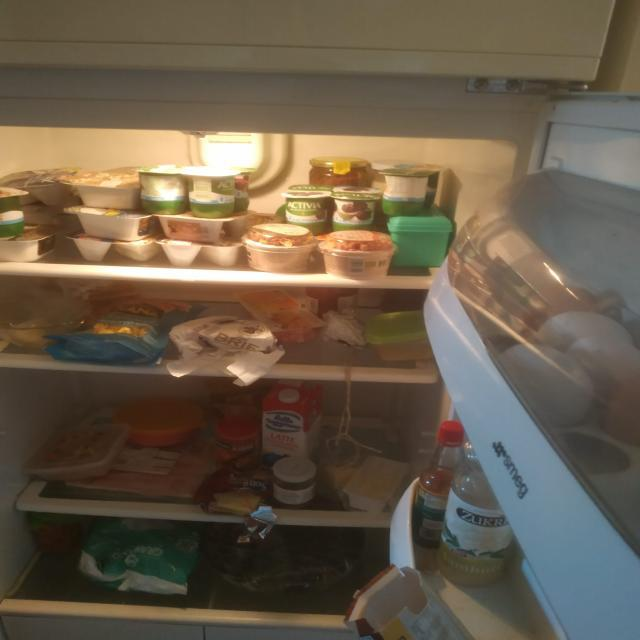bacon: (236, 290, 321, 344)
cheese: (167, 313, 290, 379), (351, 450, 399, 514)
eggs: (467, 242, 640, 440)
ham: (72, 441, 202, 499)
milk: (263, 382, 327, 456)
yoghurt: (137, 163, 256, 217), (319, 227, 400, 282), (245, 220, 318, 280), (284, 183, 379, 229), (384, 160, 444, 216), (66, 168, 142, 210), (68, 204, 150, 238), (76, 232, 156, 266), (0, 220, 57, 262), (157, 217, 245, 243), (162, 240, 238, 267), (0, 184, 31, 233)
